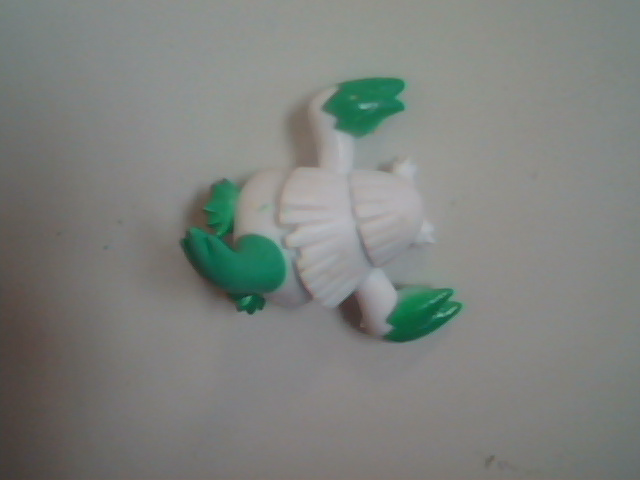abomasnow: (138, 21, 507, 359)
